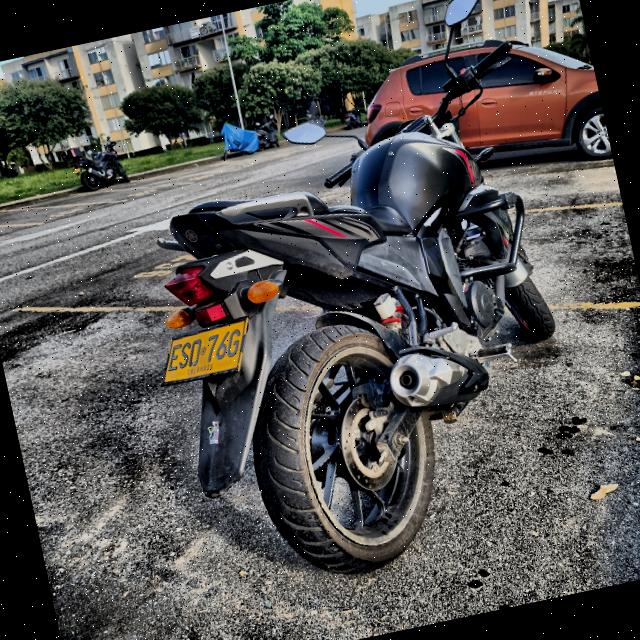6: (213, 330, 230, 360)
7: (205, 332, 220, 362)
E: (166, 342, 182, 372)
G: (225, 327, 241, 358)
O: (188, 337, 202, 367)
S: (178, 340, 192, 369)
